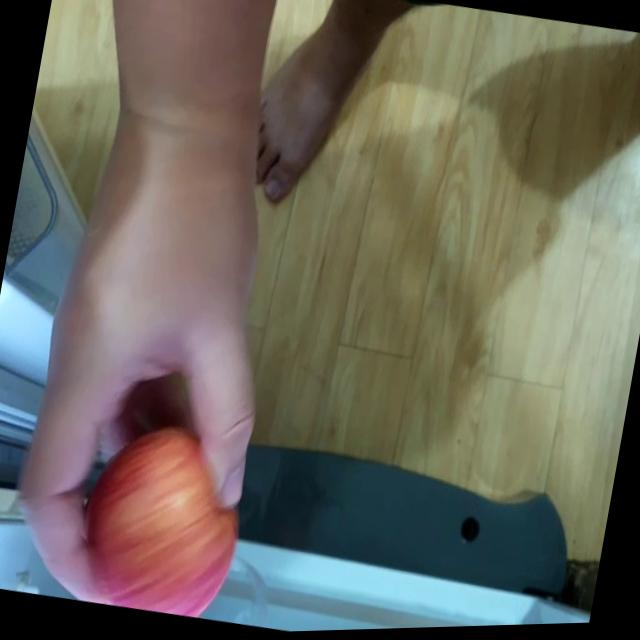apple: (75, 419, 256, 627)
